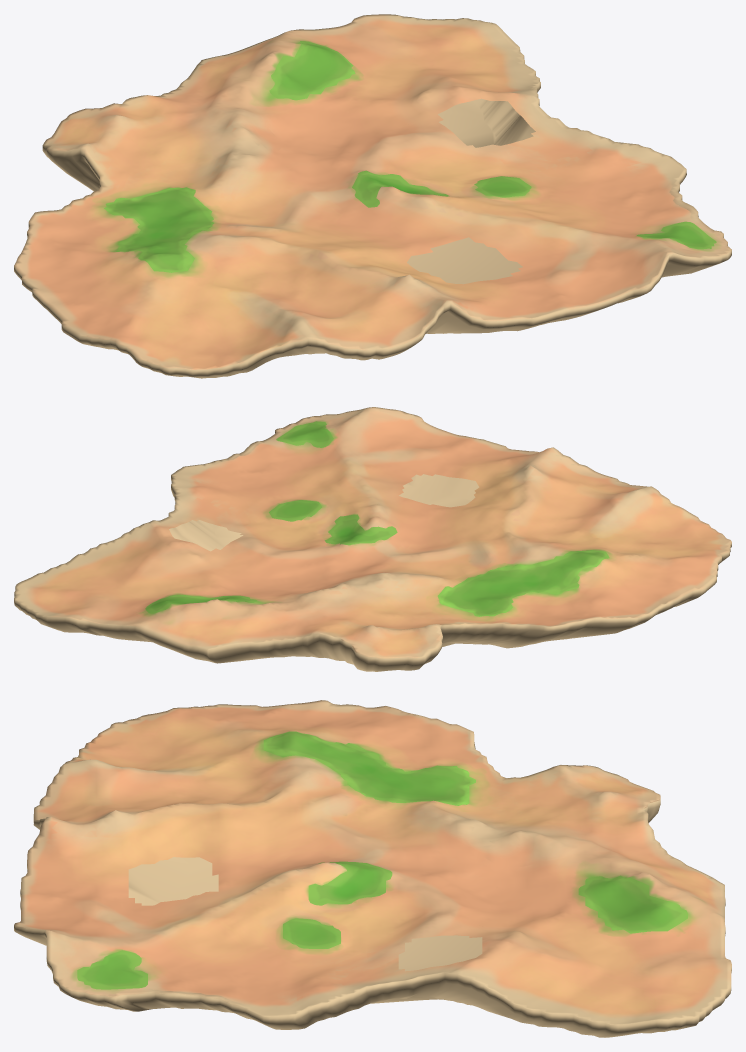
Rendered from Island_Holed.fbx.
3 views of the same model, one above another, from view 1: azimuth 30°, elevation 25°; view 2: azimuth 150°, elevation 25°; view 3: azimuth 270°, elevation 25° (orthographic). The views are drawn at different scales.
Parts seen in each view (by area): view 1: Island_Holed; view 2: Island_Holed; view 3: Island_Holed.
Part boxes in pixels (x1=…): Island_Holed: x1=14, y1=14, x2=731, y2=378; Island_Holed: x1=14, y1=407, x2=731, y2=671; Island_Holed: x1=14, y1=700, x2=731, y2=1037.
Size of the model in its own units: 23137 by 4127 by 22334.
